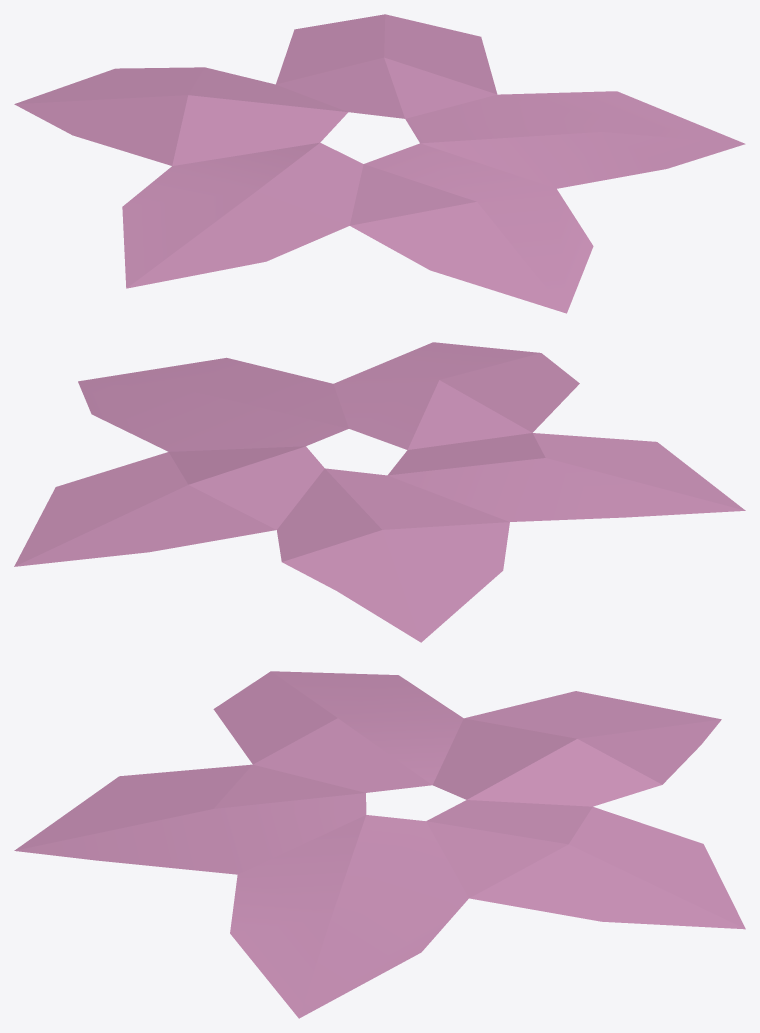
File: Sakura_Petal.fbx
The picture shows the model from 3 angles, top to bottom: view 1: azimuth 30°, elevation 25°; view 2: azimuth 150°, elevation 25°; view 3: azimuth 270°, elevation 25°; orthographic projection. The views are drawn at different scales.
Parts seen in each view (by area): view 1: Sakura_petal4; view 2: Sakura_petal4; view 3: Sakura_petal4.
Boxes of the visible parts, x1,y1,x2,y2 form: Sakura_petal4: (14,14,745,313); Sakura_petal4: (14,342,745,642); Sakura_petal4: (14,671,745,1018).
Bounding box in the file's own units: 87.77 × 7.5 × 83.06.
